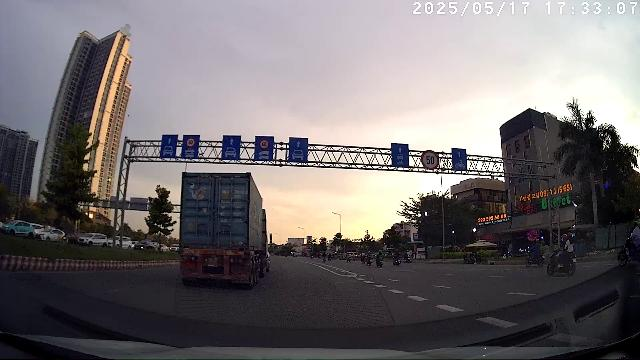127-toc-do-toi-da-50: (421, 150, 439, 170)
127-toc-do-toi-da-60: (259, 139, 270, 149)
